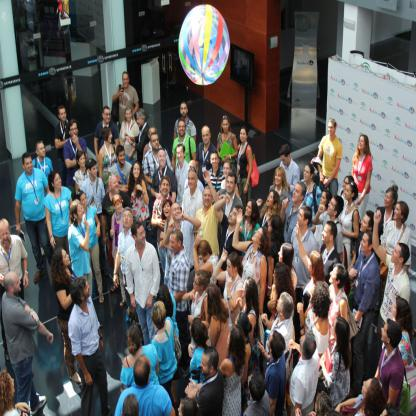Ball: (179, 5, 230, 84)
